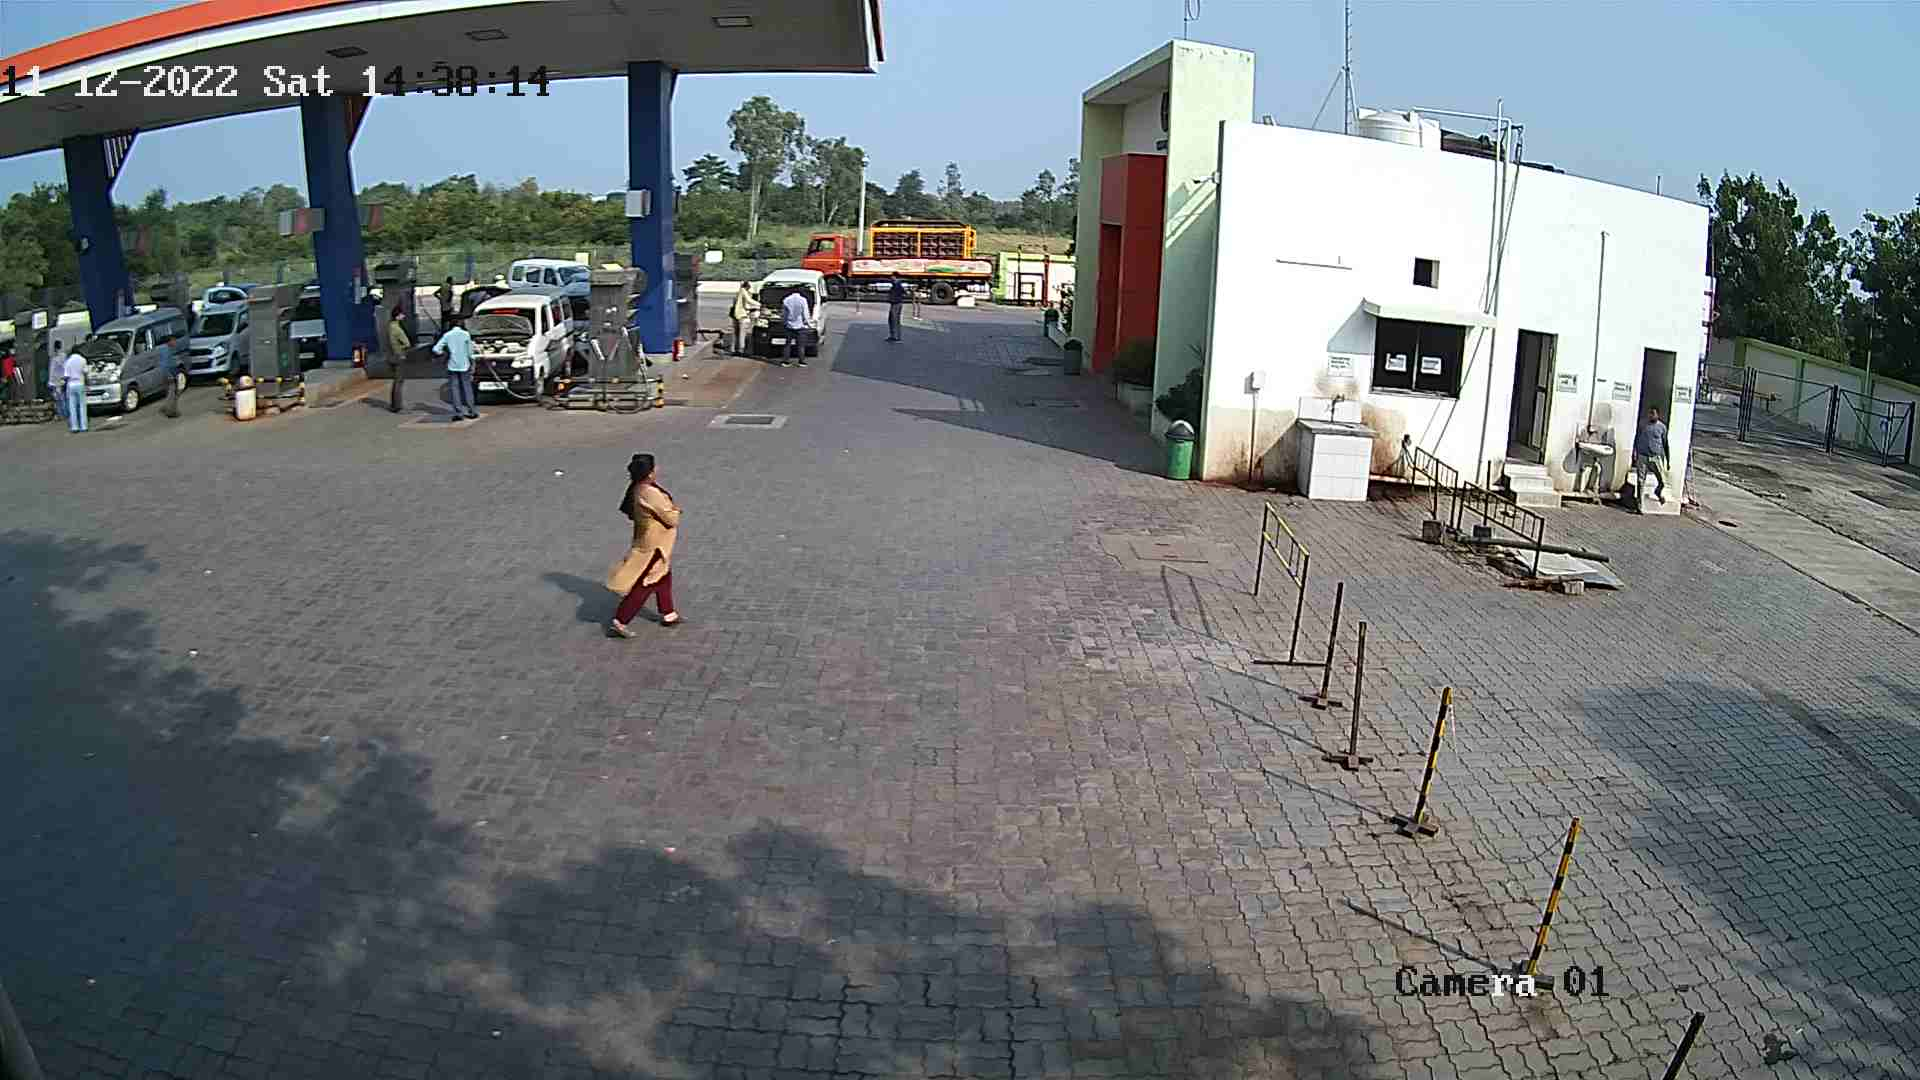Car: (450, 278, 578, 405), (61, 301, 193, 419), (723, 262, 837, 368), (179, 280, 262, 393), (284, 281, 338, 380), (553, 266, 595, 373), (498, 251, 592, 295)
HMV: (793, 206, 1009, 307)
